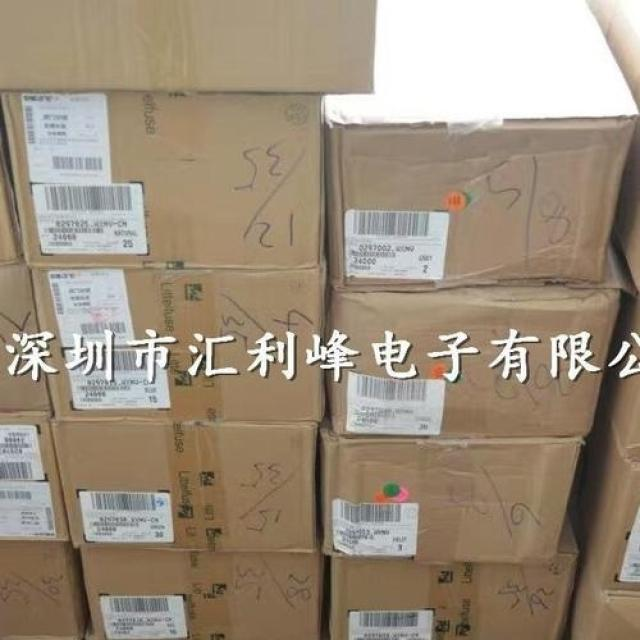box: (323, 1, 639, 294), (326, 232, 621, 440), (1, 92, 326, 270), (26, 259, 329, 426), (317, 416, 582, 567), (51, 415, 316, 552), (0, 1, 378, 97), (320, 508, 579, 640), (566, 278, 640, 591), (74, 548, 324, 640), (586, 0, 640, 291), (0, 412, 72, 544), (0, 538, 90, 639), (0, 265, 52, 413), (561, 550, 640, 639), (0, 100, 23, 265)
